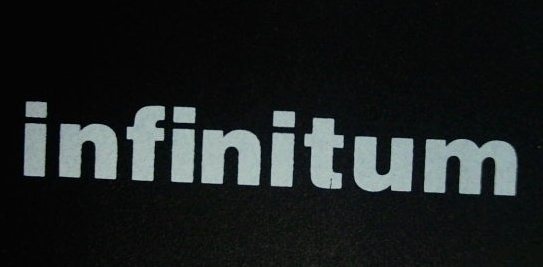BK_infinitum: (18, 84, 520, 204)
